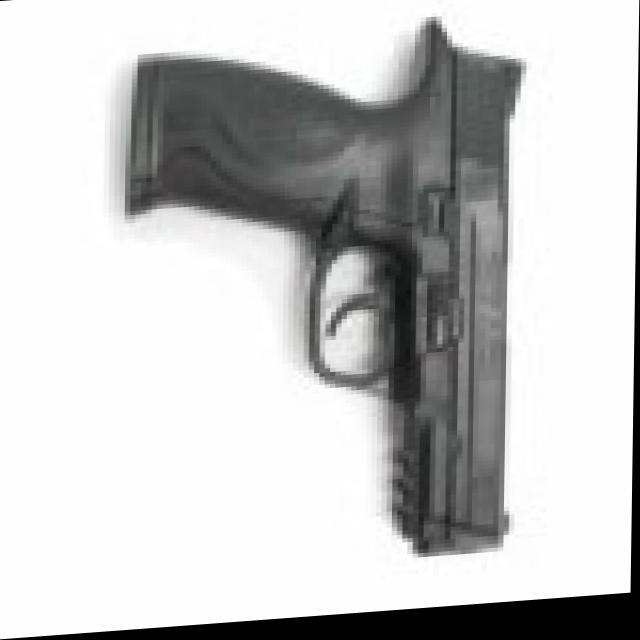handgun: (132, 17, 528, 588)
